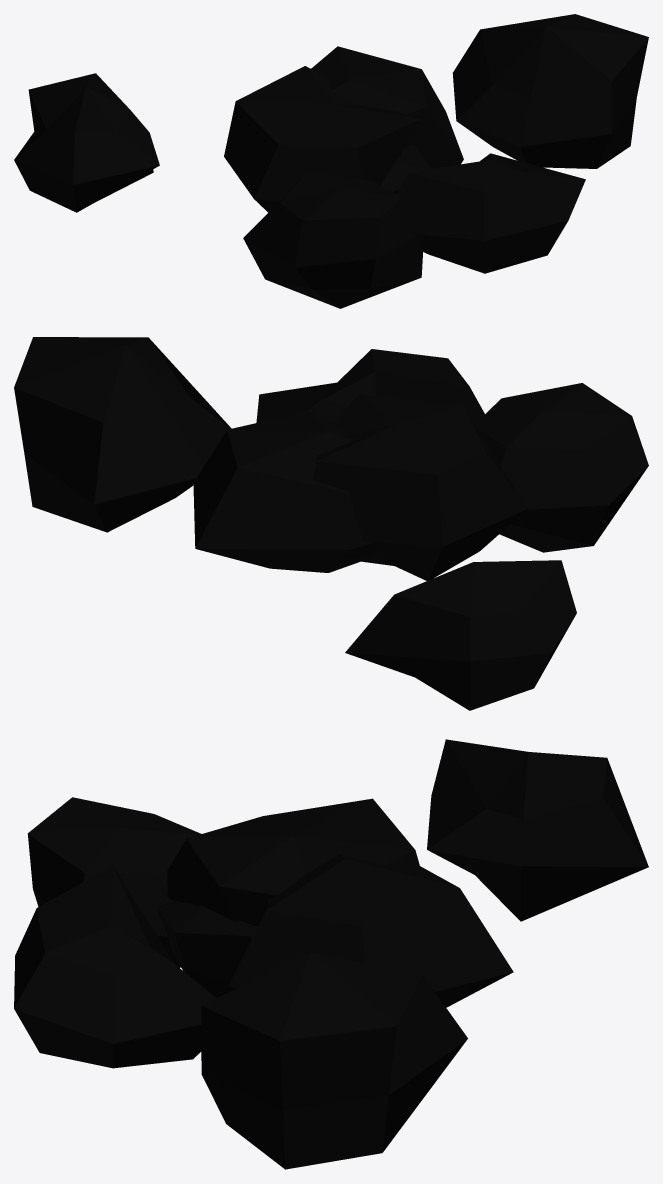
Rendered from SM_rock_pile.fbx.
3 renders of one model, top to bottom at view 1: azimuth 30°, elevation 25°; view 2: azimuth 150°, elevation 25°; view 3: azimuth 270°, elevation 25°, orthographic. The views are drawn at different scales.
Parts seen in each view (by area): view 1: rock_pile; view 2: rock_pile; view 3: rock_pile.
Part boxes in pixels (x1,y1,x2,y2): rock_pile: (14, 14, 648, 308); rock_pile: (14, 337, 648, 710); rock_pile: (14, 739, 648, 1169).
Size of the model in its own units: 1.44 by 0.4119 by 1.13.
